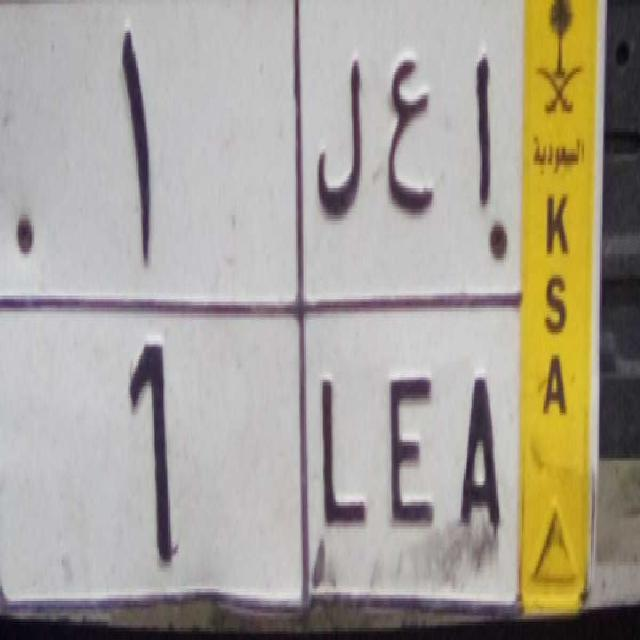license_plate: (0, 293, 524, 623)
